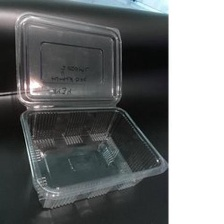plastic_box: (6, 7, 168, 213)
